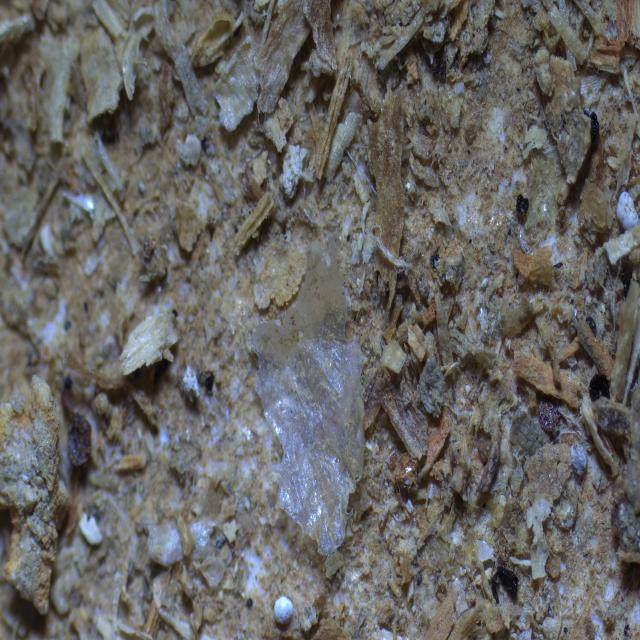microplastic: (228, 226, 389, 556)
